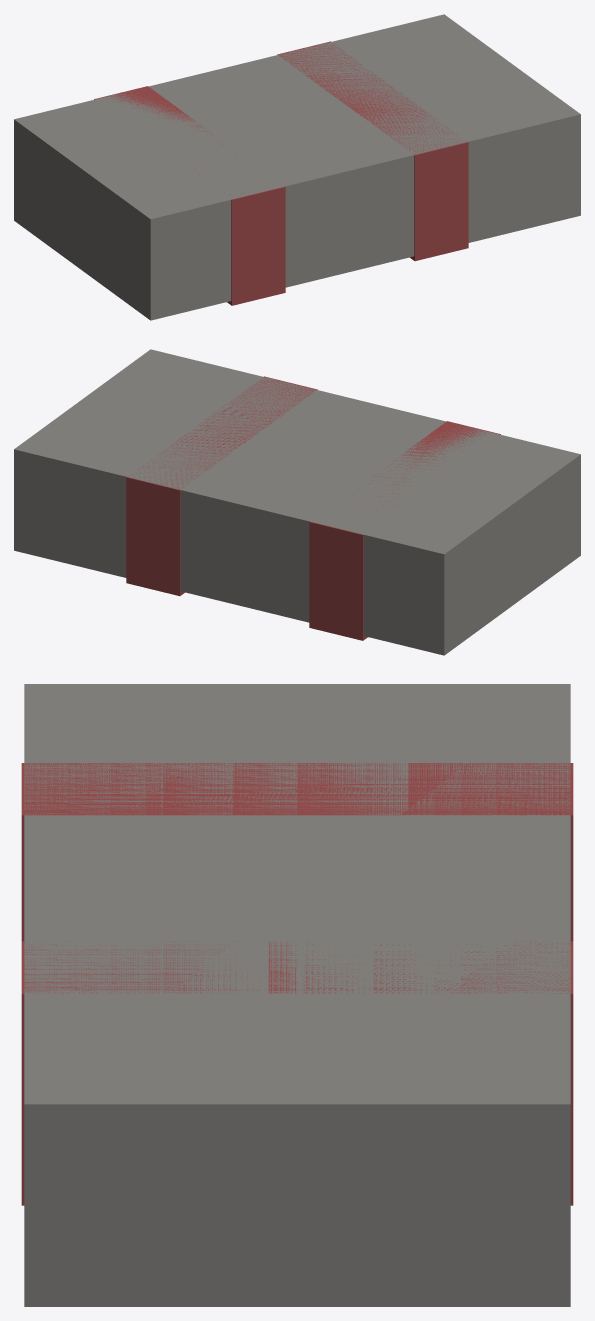
Rendered from barricade_concrete_quarantine.glb.
3 renders of one model, top to bottom at view 1: azimuth 30°, elevation 25°; view 2: azimuth 150°, elevation 25°; view 3: azimuth 270°, elevation 25°, orthographic. The views are drawn at different scales.
Parts seen in each view (by area): view 1: world; view 2: world; view 3: world.
Part boxes in pixels (x1=…): world: x1=14, y1=14, x2=580, y2=320; world: x1=14, y1=349, x2=580, y2=655; world: x1=21, y1=684, x2=573, y2=1306.
Size of the model in its own units: 2 by 0.47 by 1.11.
